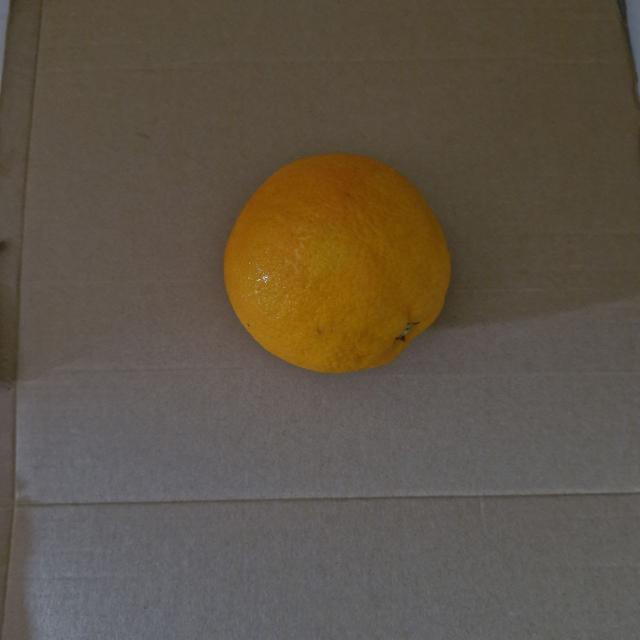food_waste: (215, 142, 459, 378)
